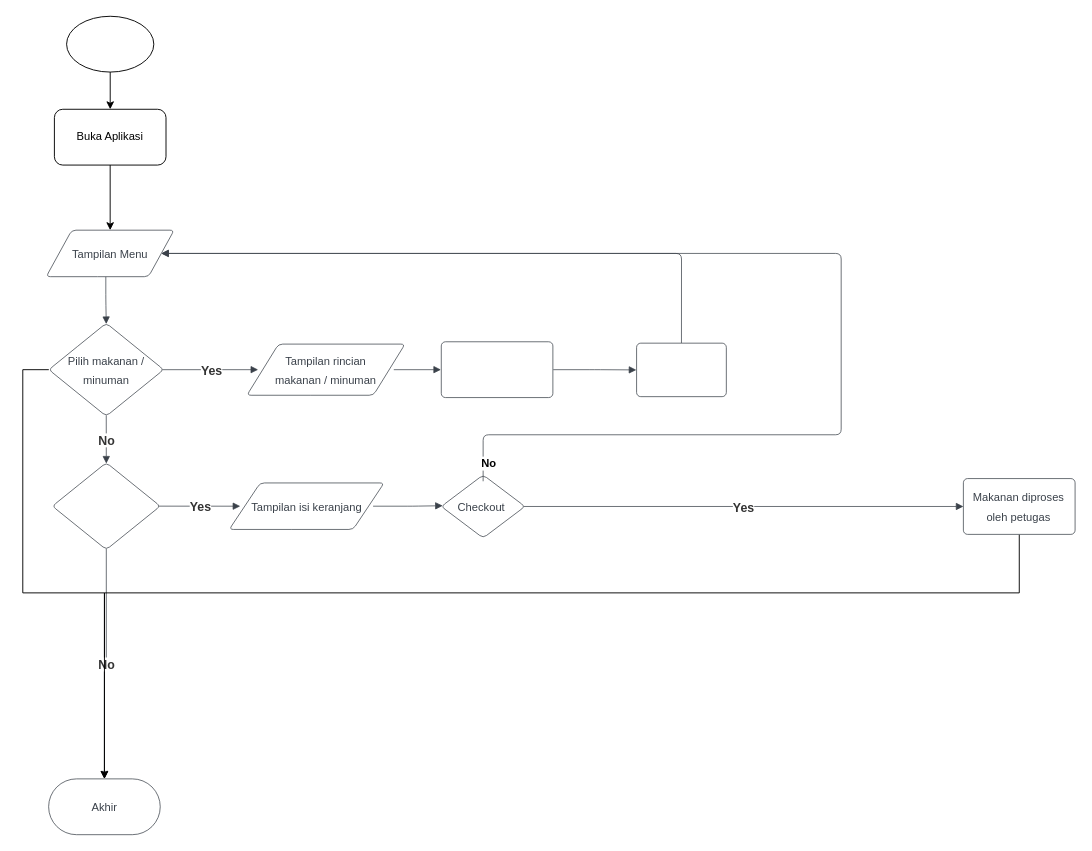
Some shapes in this 1092 by 851 pixel diagram are drawn without their labels. The shapes that lost their labels are listed below. From the top down, each one's centre as x and y in pixels, then its label:
point 110,43: Mulai
point 496,369: Masukkan jumlah yang diinginkan
point 681,369: Masukkan ke keranjang
point 106,506: Jumlah item keranjang > 0
